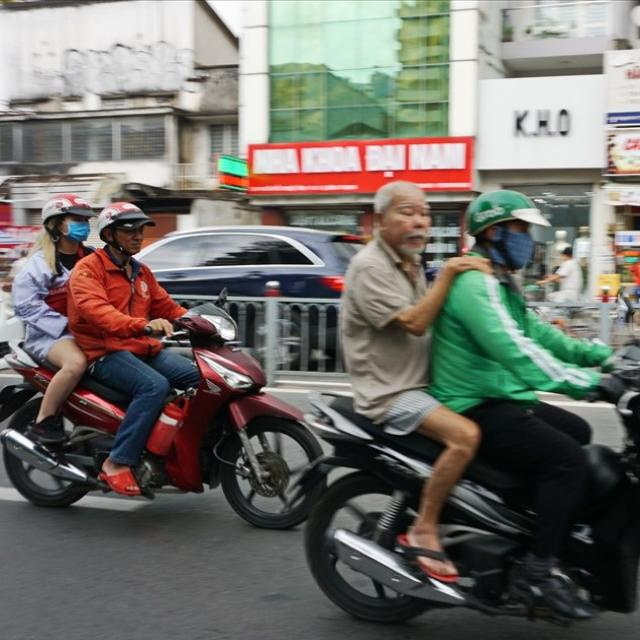1-2-helmet: (462, 187, 555, 237)
Face and Hair: (368, 176, 442, 270)
